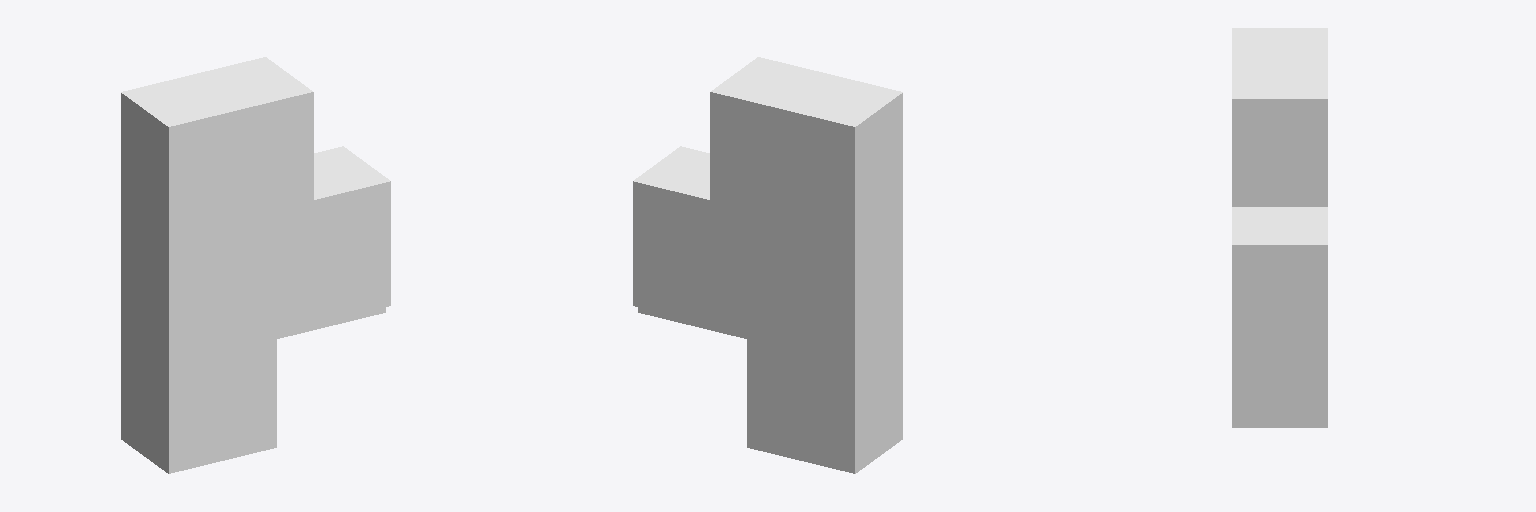
Rendered from LEFT.obj.
3 views of the same model, side by side, from view 1: azimuth 30°, elevation 25°; view 2: azimuth 150°, elevation 25°; view 3: azimuth 270°, elevation 25° (orthographic).
Visible parts, largest first — view 1: DOOR_1A; view 2: DOOR_1A; view 3: DOOR_1A.
Part boxes in pixels (left/top/right/bottom): DOOR_1A: left=121, top=57, right=390, bottom=473; DOOR_1A: left=633, top=57, right=902, bottom=473; DOOR_1A: left=1232, top=28, right=1327, bottom=427.
Bounding box in the file's own units: 4.3 × 6.4 × 1.6.